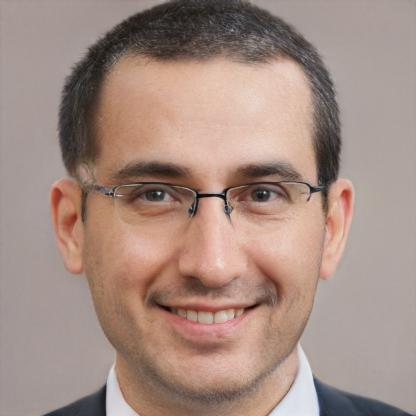glasses: (96, 172, 318, 230)
